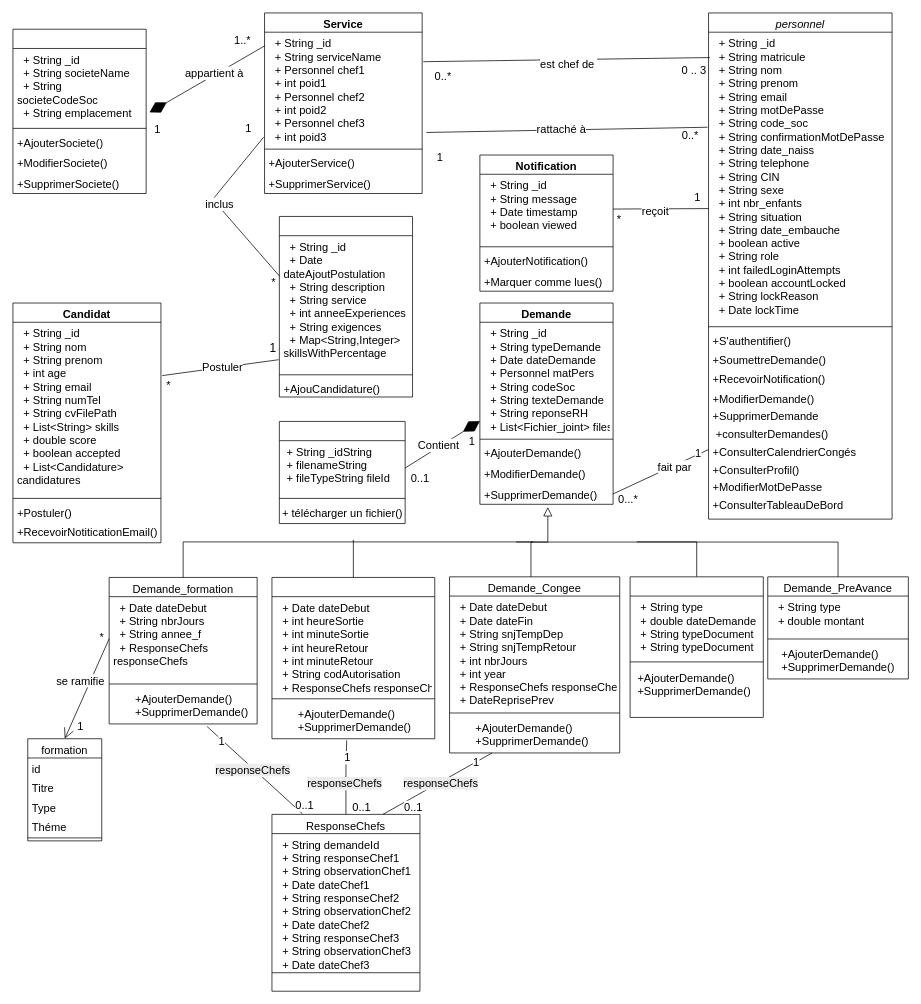
Image size: 921x1004. Some labels were removed from this diagram. Each missing label, with the box of its shape:
Demande_Autorisation: (271, 577, 435, 739)
Demande_Document: (629, 576, 763, 717)
Fichier_joint: (279, 421, 405, 524)
Offre: (279, 216, 413, 397)
Succursale_Société: (12, 28, 146, 194)
